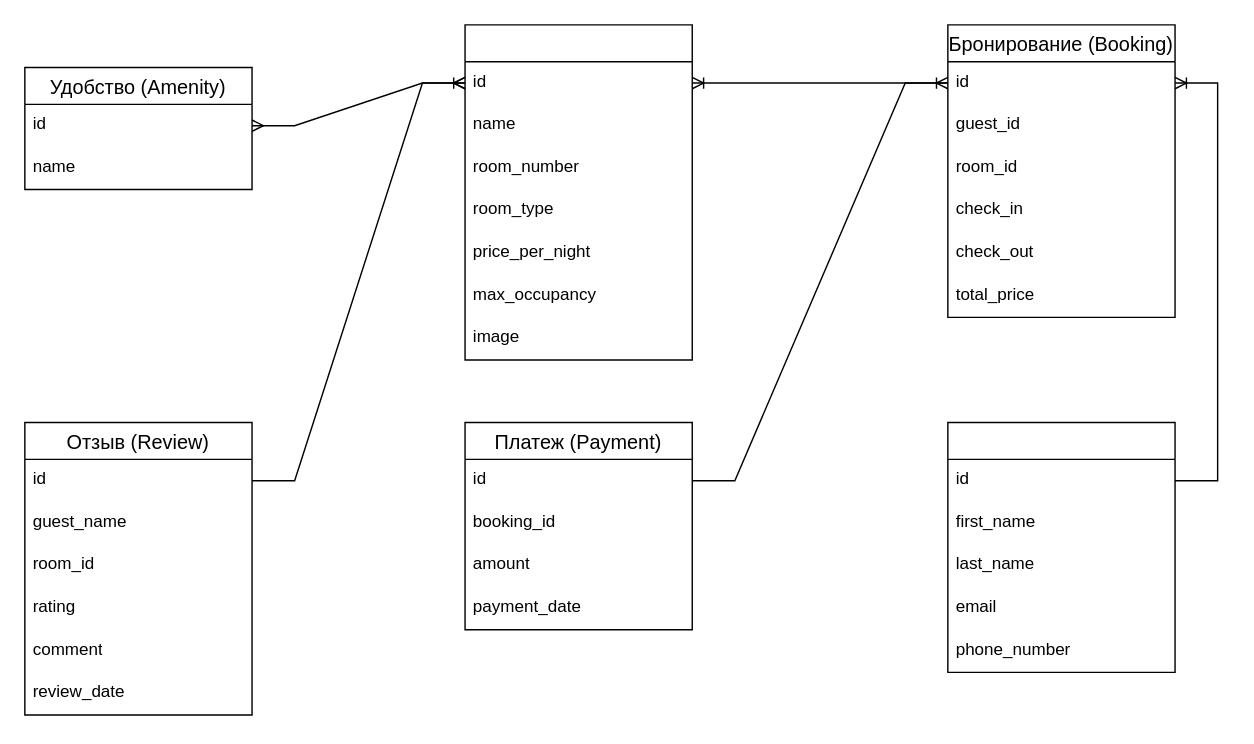
Image size: 1254x744. Some labels were removed from this diagram. Each missing label, with the box of its shape:
Гость (Guest): (946, 421, 1175, 672)
Комната (Room): (464, 23, 692, 360)
